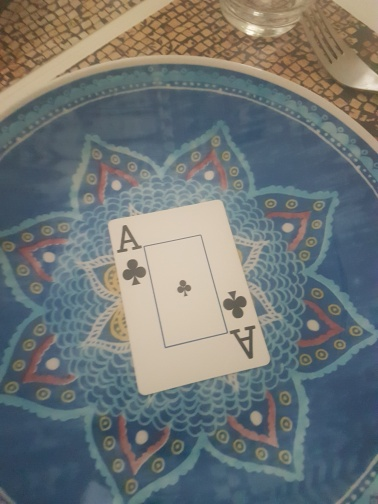ace: (107, 198, 270, 395)
